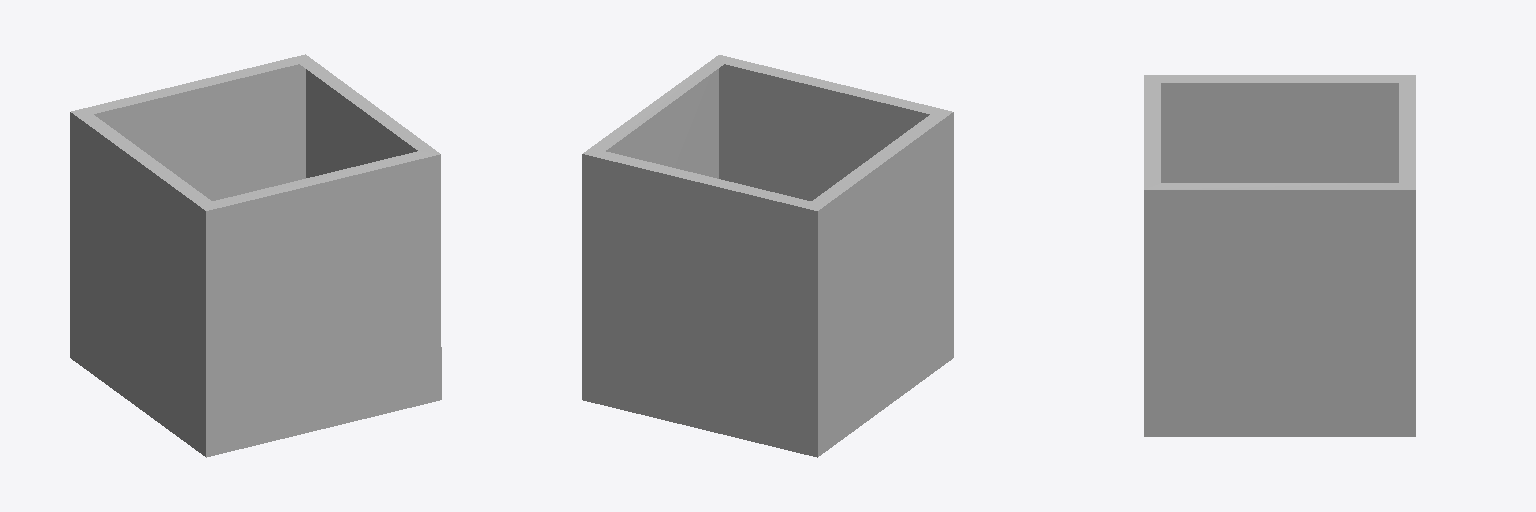
Rendered from 3x3x3_center.obj.
3 views of the same model, side by side, from view 1: azimuth 30°, elevation 25°; view 2: azimuth 150°, elevation 25°; view 3: azimuth 270°, elevation 25° (orthographic).
Parts seen in each view (by area): view 1: 3x3x3_center_body; view 2: 3x3x3_center_body; view 3: 3x3x3_center_body.
Part boxes in pixels (x1,y1,x2,y2): 3x3x3_center_body: (70,54,441,457); 3x3x3_center_body: (582,55,953,457); 3x3x3_center_body: (1144,75,1415,436).
Bounding box in the file's own units: 2 × 2 × 2.